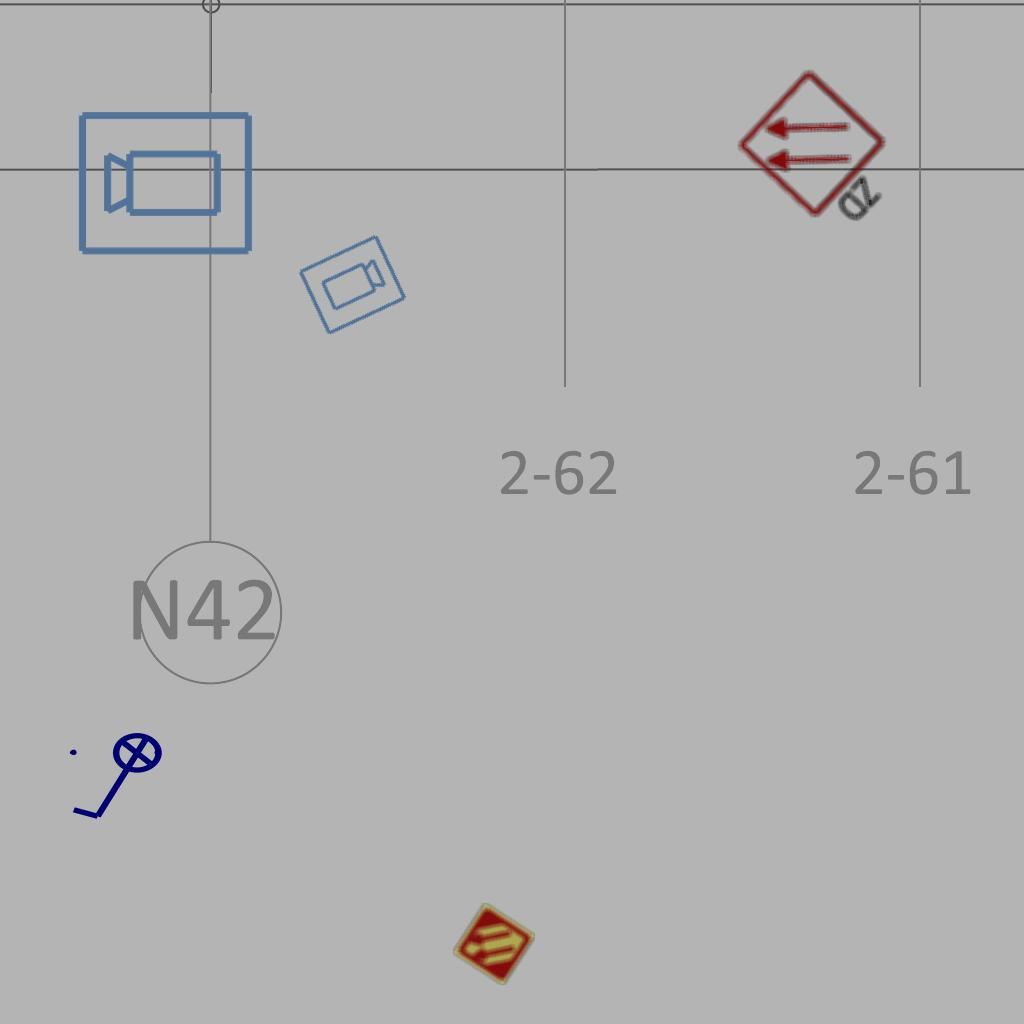ASR_Ansaugrauchmelder: (451, 901, 537, 987)
Ausschalter_beleuchtet: (64, 731, 176, 827)
KFO_Kamera_mit_Festobjektiv: (75, 105, 257, 259), (294, 231, 411, 340)
ZD_Melder_in_Zwischendecke_mit_Revisionsoeffnung_mind_40_x_40_cm: (733, 63, 921, 248)
